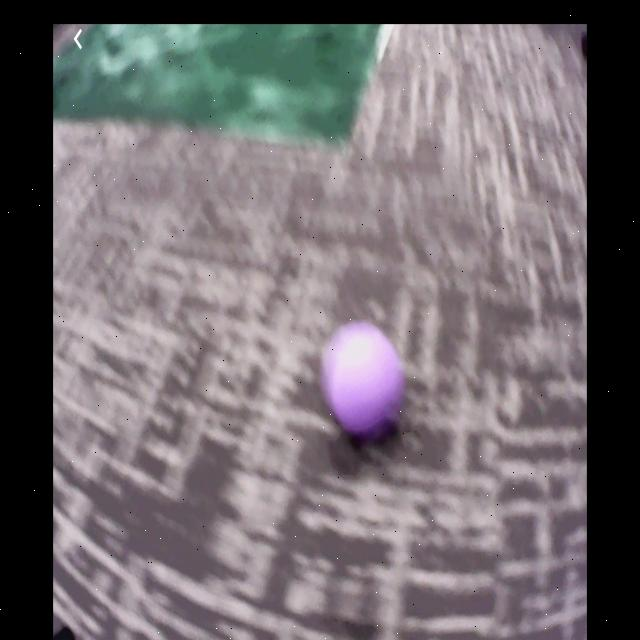ball: (330, 324, 400, 438)
